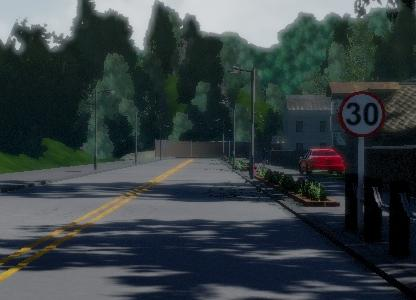Speed_30: (337, 92, 387, 139)
